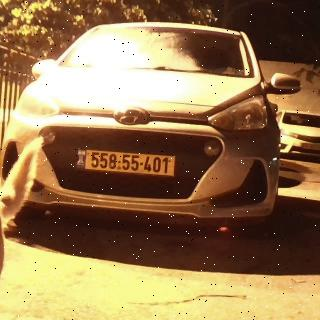LicensePlate: (85, 149, 175, 176)
